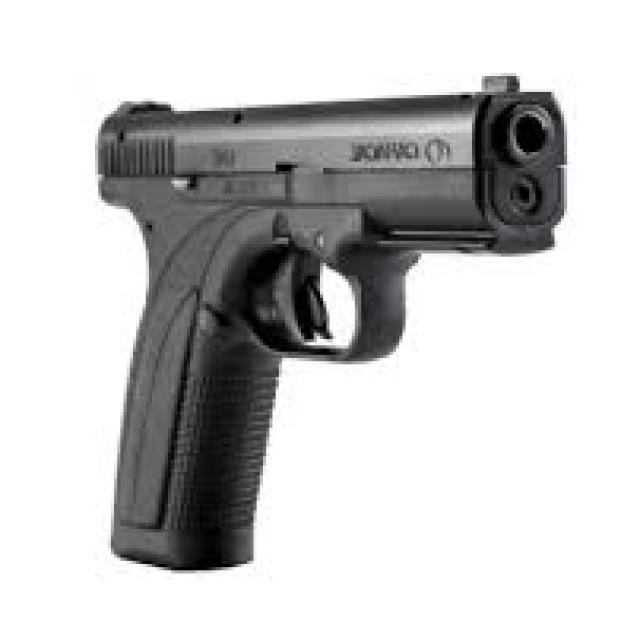Gun: (66, 69, 554, 592)
